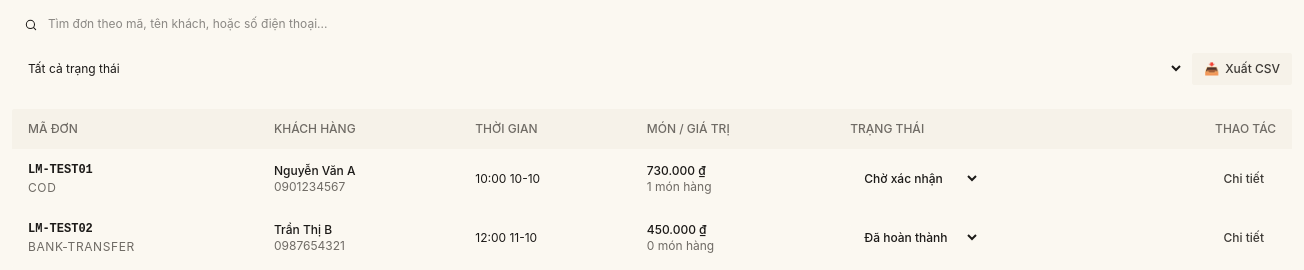
Test case: AdminOrdersTab › lọc đơn hàng theo trạng thái dropdown
Select "Đã hoàn thành" in the 1st dropdown showing "Tất cả trạng thái" at x=598, y=68, box [12,52,1184,85]
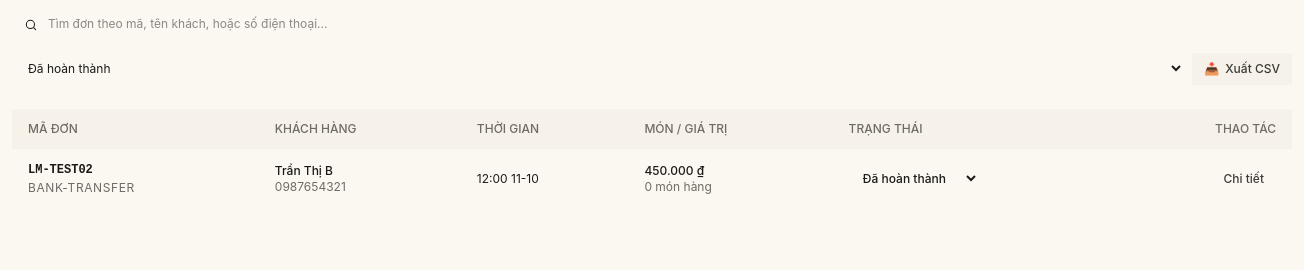
Expected: the text "LM-TEST02" is shown, [28,163,93,177]
Expected: the text "LM-TEST01" is gone
